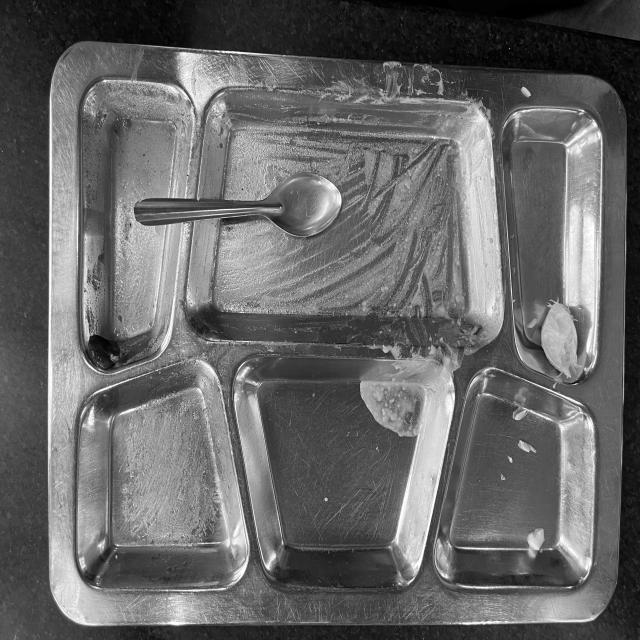Empty-Plate: (59, 54, 603, 604)
